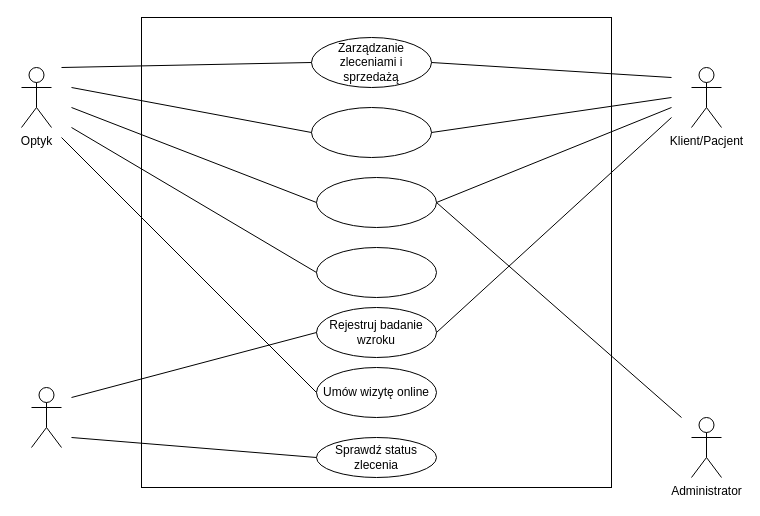
Some shapes in this 760 by 516 pixel diagram are drawn without their labels. The shapes that lost their labels are listed below. From the top down, each one's centre as x and y in pixels, then its label:
At point 371,132: "Zarządzanie magazynem".
At point 376,202: "Zarządzanie pacjentami i wizytami".
At point 376,272: "Wstaw receptę/zlecenie optyczne".
At point 46,417: "Specjalista".
